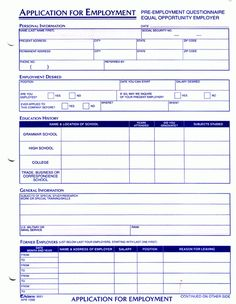table: (19, 122, 230, 183), (20, 247, 231, 294), (19, 28, 230, 71), (20, 194, 231, 235), (19, 80, 229, 111)
